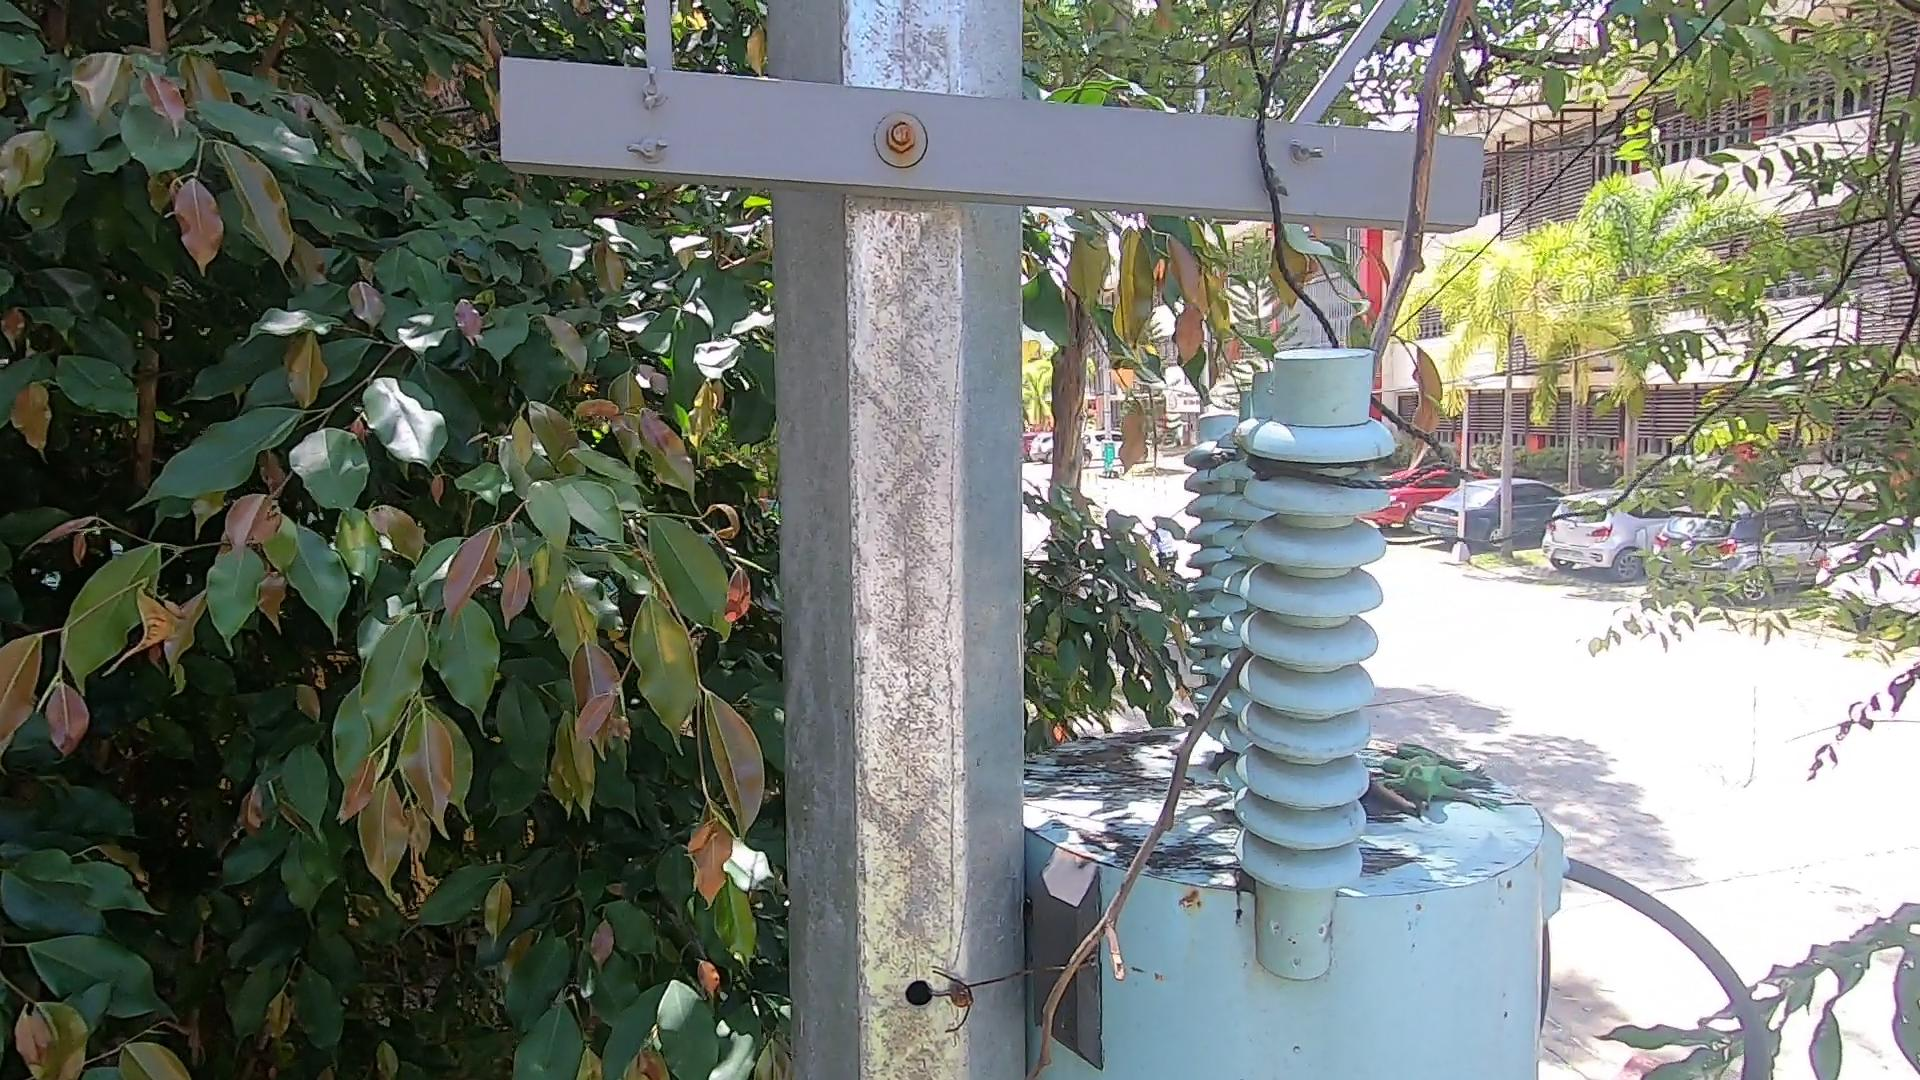branch with leaves: (1054, 243, 1284, 462)
leaf: (1367, 773, 1420, 833), (1067, 742, 1154, 778), (1226, 855, 1261, 895)
tree branch: (978, 5, 1540, 1080)
